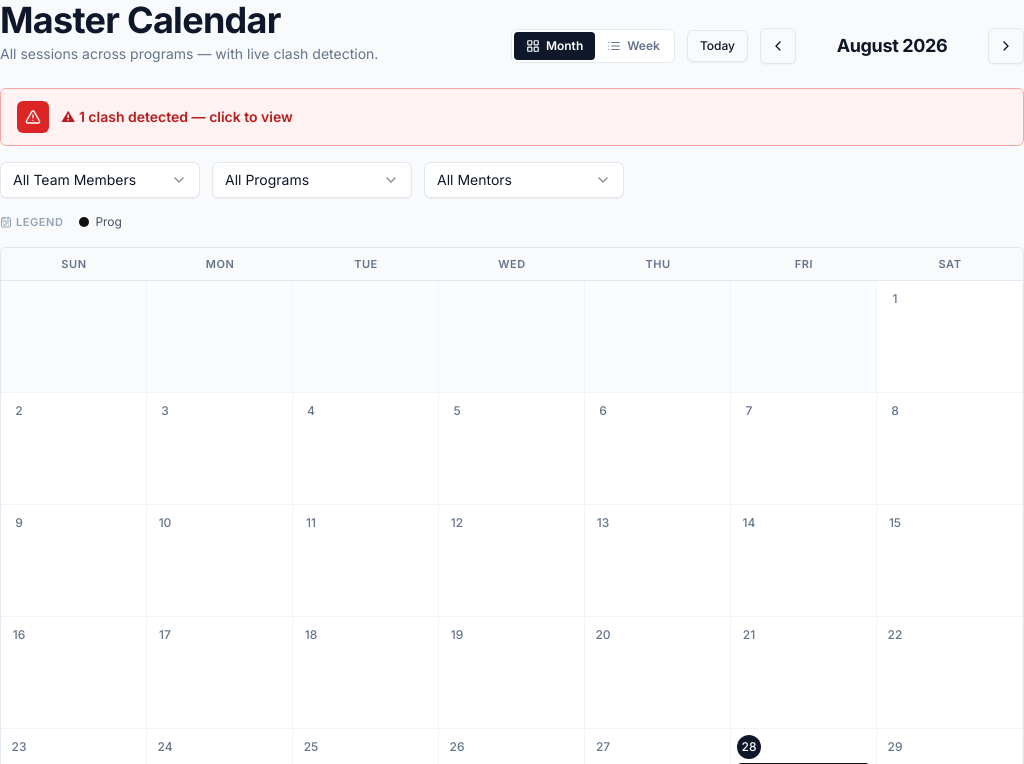
Test: CalendarPage › clash banner appears and opens the clash panel
Click the button with test id "clash-banner" at x=33, y=117, box x1=0 y1=88 x2=1023 y2=146
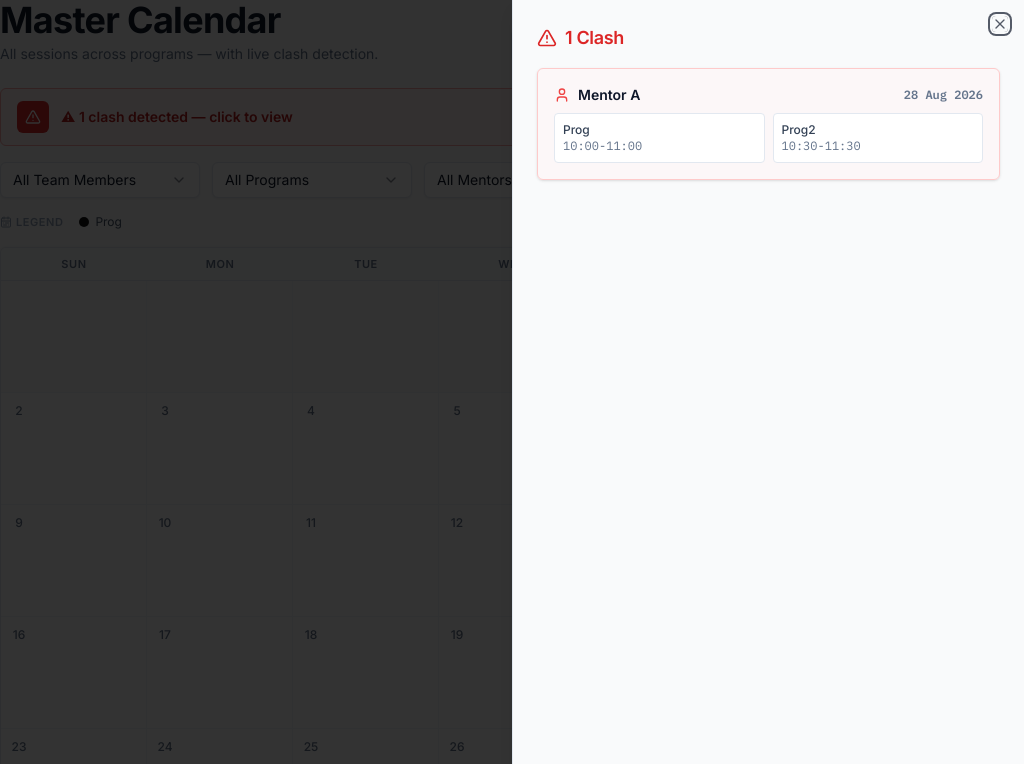
Check: the element with test id "clash-item" is shown, box x1=537 y1=68 x2=1000 y2=180
